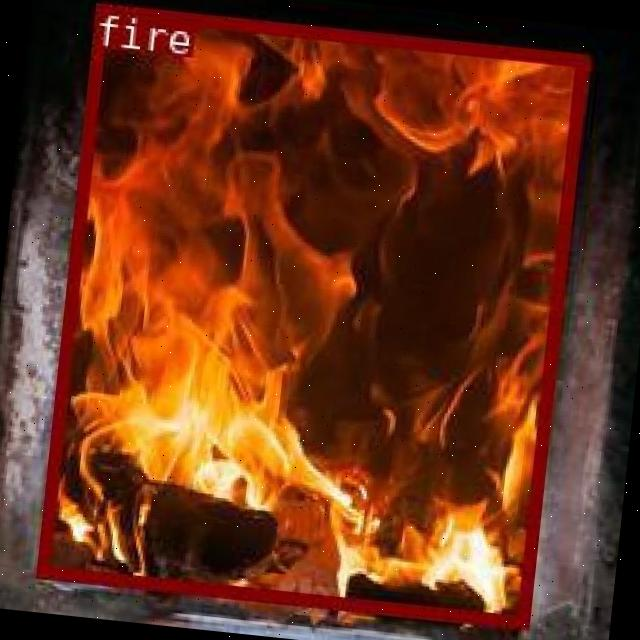fire: (36, 1, 584, 625)
